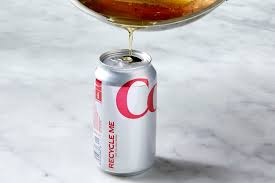can: (92, 47, 161, 178)
